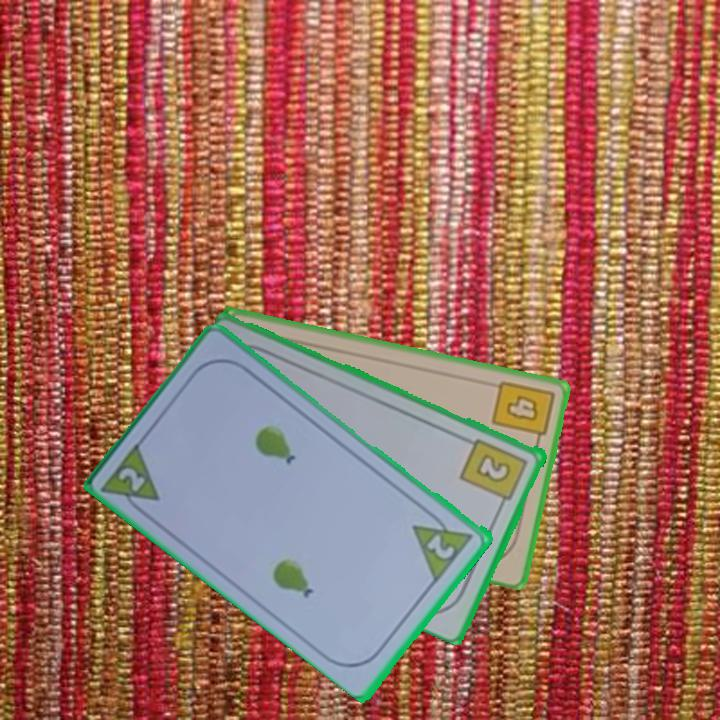2b: (457, 435, 531, 511)
2p: (99, 437, 164, 521), (409, 505, 478, 584)
4b: (488, 376, 557, 449)
